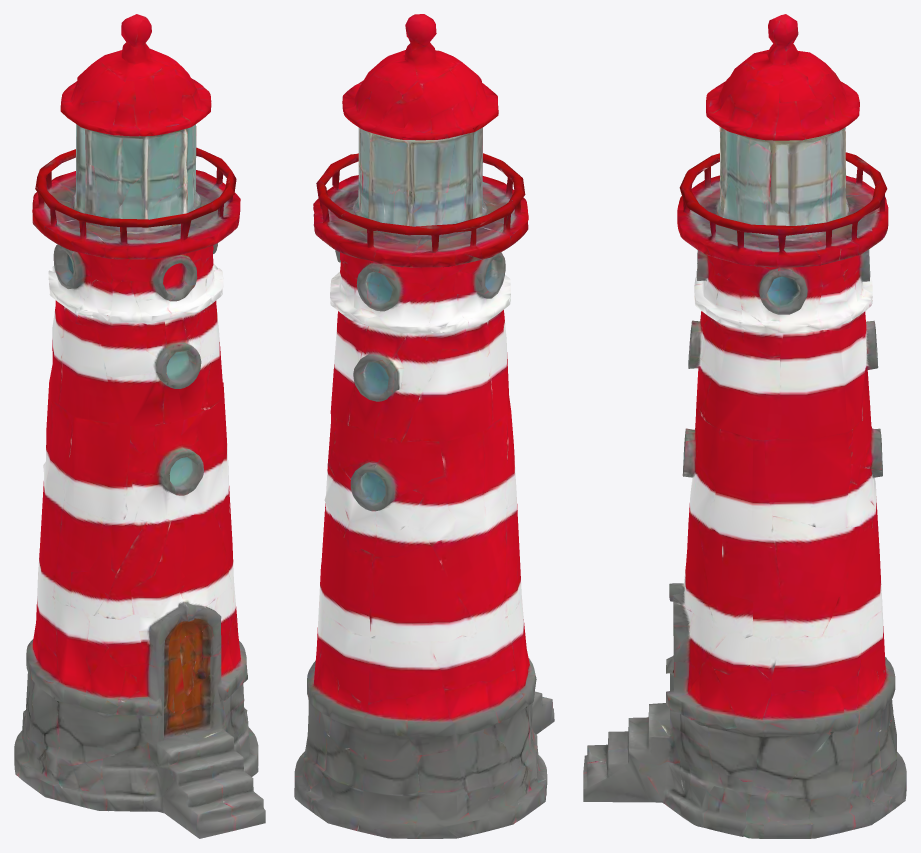
Rendered from lighthouse.glb.
3 renders of one model, left to right at view 1: azimuth 30°, elevation 25°; view 2: azimuth 150°, elevation 25°; view 3: azimuth 270°, elevation 25°, orthographic. The views are drawn at different scales.
Bounding box in the file's own units: 0.5657 × 1.9 × 0.7235.
Materials: 1 (1 with a texture image).
